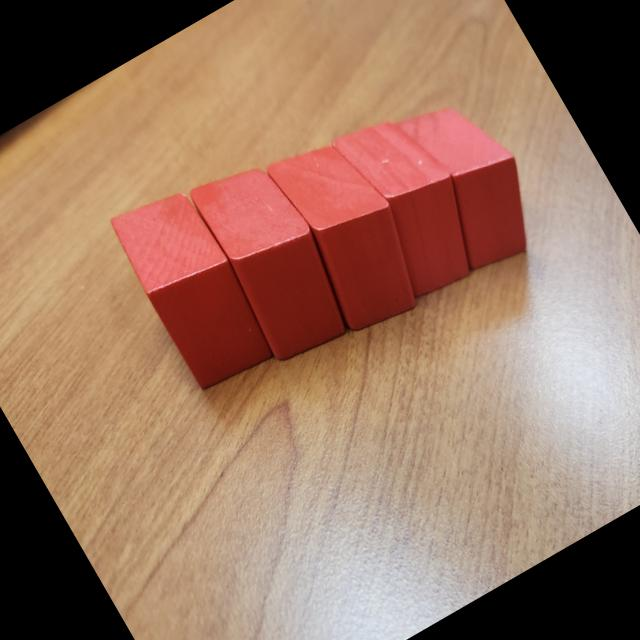red: (180, 144, 367, 370), (256, 120, 442, 343), (105, 176, 284, 396), (325, 96, 499, 304), (388, 81, 558, 281)
